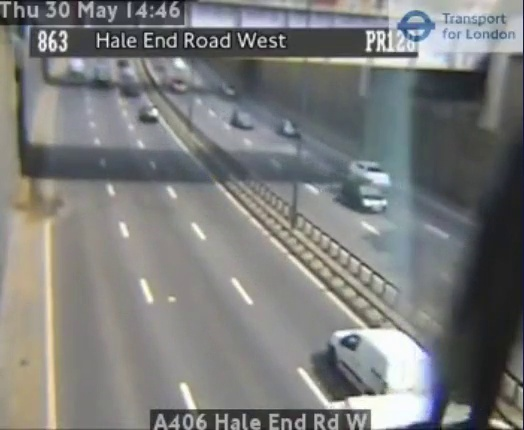van: (329, 330, 432, 394)
